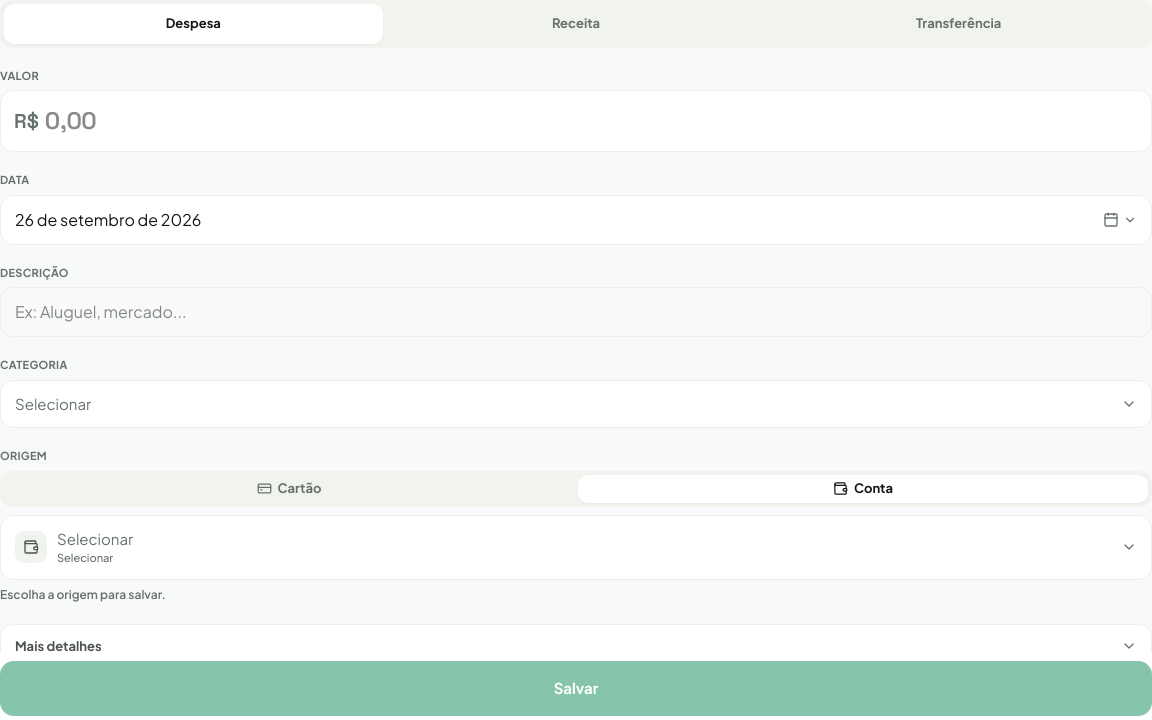
NewTransactionSheet › filters categories instantly while searching
Click the button with aria-label "Selecionar categoria". click: [53, 403]
box: x1=0 y1=380 x2=1151 y2=428
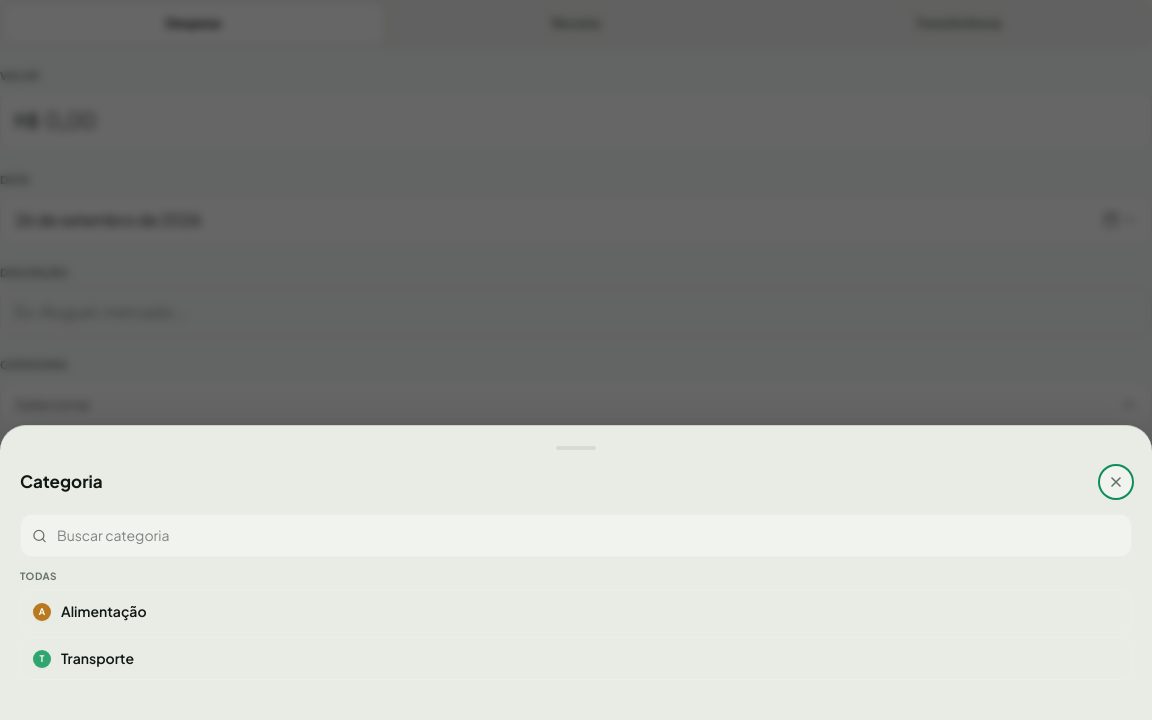
Type "transp" into the field with placeholder "Buscar categoria". click: [576, 536]
box: x1=20 y1=514 x2=1132 y2=557
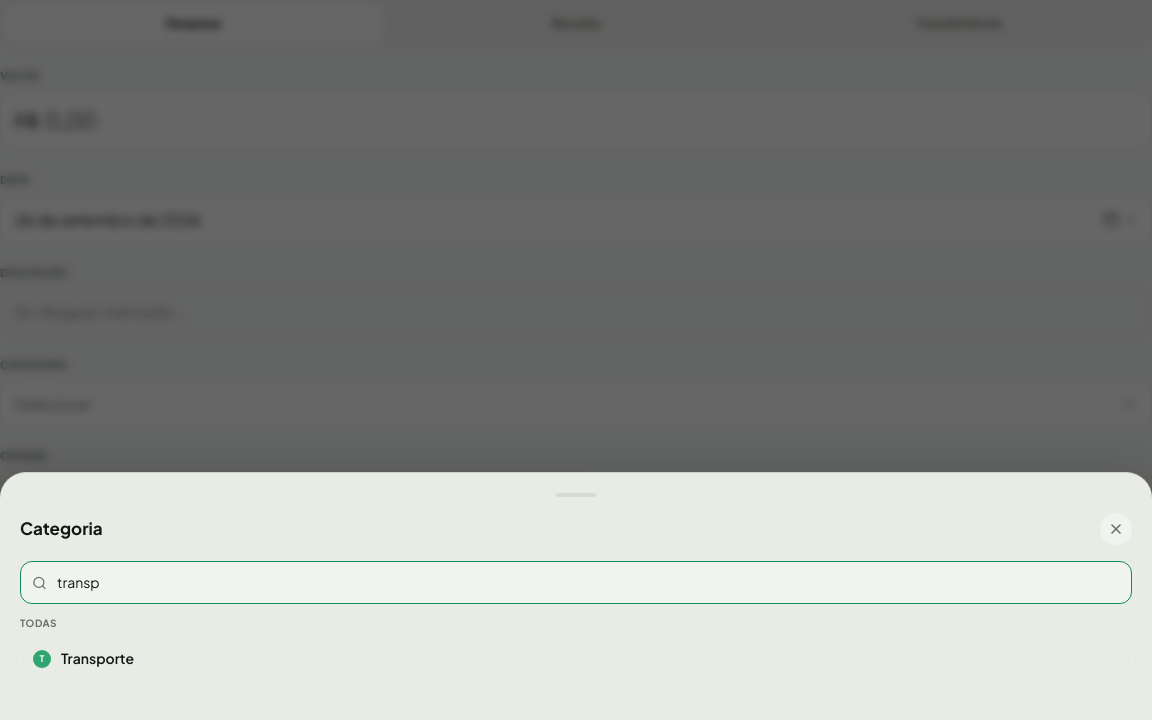
Expected: the text "Transporte" is shown, x1=61 y1=649 x2=134 y2=667
Expected: the button "Alimentação" is gone
